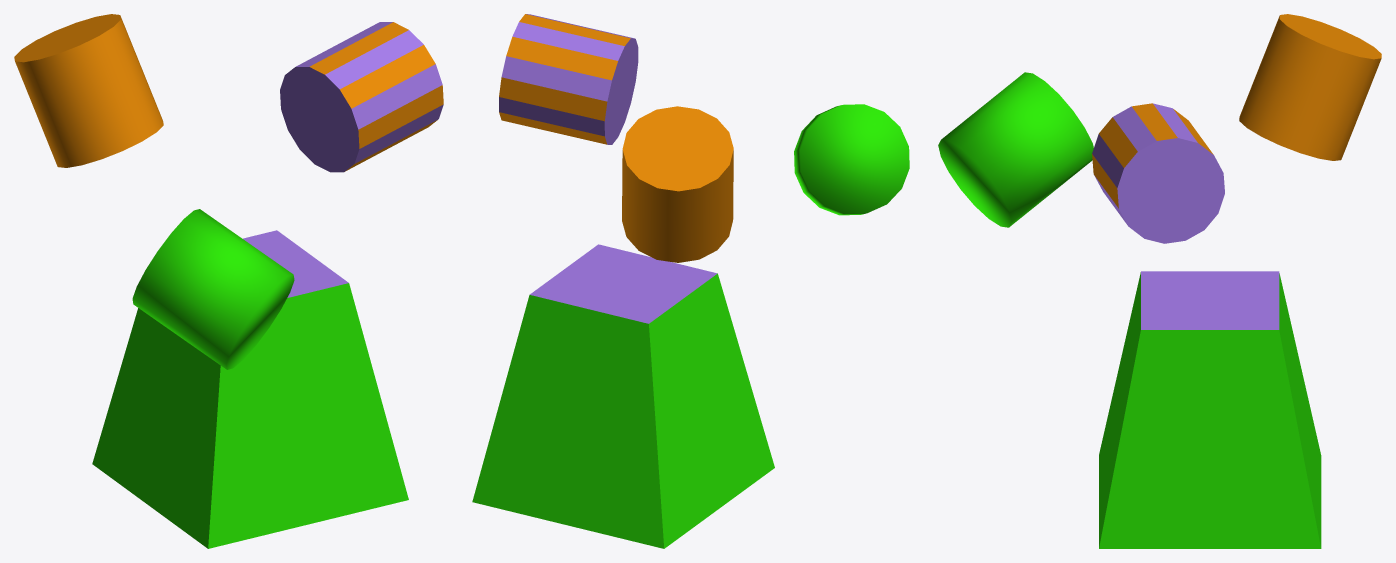
The model's file is achilles test.fbx.
The picture shows the model from 3 angles, left to right: view 1: azimuth 30°, elevation 25°; view 2: azimuth 150°, elevation 25°; view 3: azimuth 270°, elevation 25°; orthographic projection. The views are drawn at different scales.
Parts seen in each view (by area): view 1: Cube, Cylinder2, Cylinder3, Cylinder1; view 2: Cube, Cylinder1, Cylinder2, Cylinder3; view 3: Cube, Cylinder3, Cylinder1, Cylinder2.
Part boxes in pixels (x1,y1,x2,y2): Cube: [92, 230, 408, 548]; Cylinder2: [280, 22, 443, 172]; Cylinder3: [132, 209, 294, 369]; Cylinder1: [14, 14, 163, 167]; Cube: [472, 244, 774, 548]; Cylinder1: [622, 106, 733, 262]; Cylinder2: [499, 14, 638, 144]; Cylinder3: [794, 104, 909, 215]; Cube: [1099, 271, 1321, 548]; Cylinder3: [938, 72, 1093, 227]; Cylinder1: [1239, 14, 1381, 160]; Cylinder2: [1092, 103, 1224, 243].
Bounding box in the file's own units: 351 × 428 × 399.
